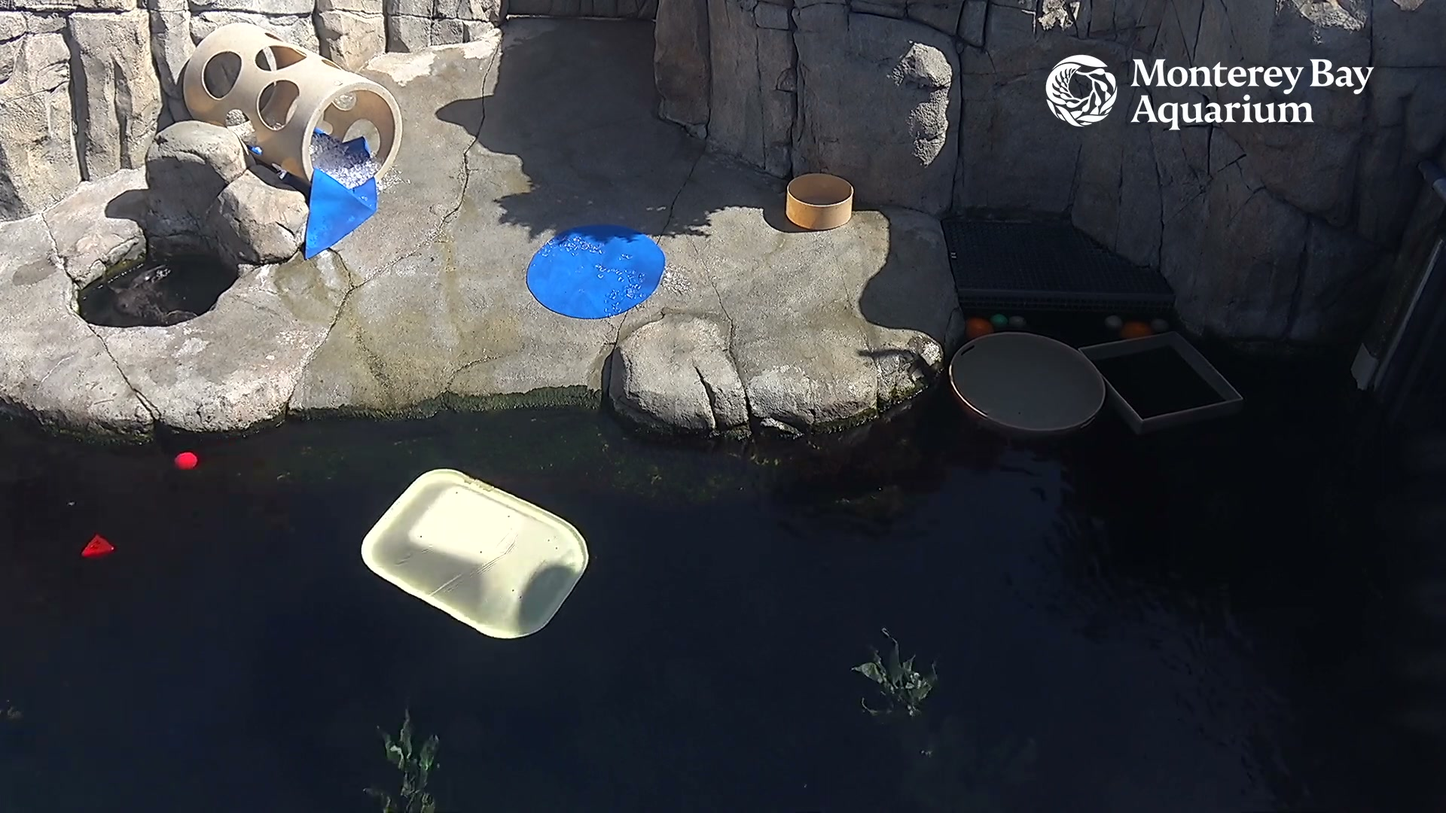Southern Sea Otter: (82, 255, 237, 339)
